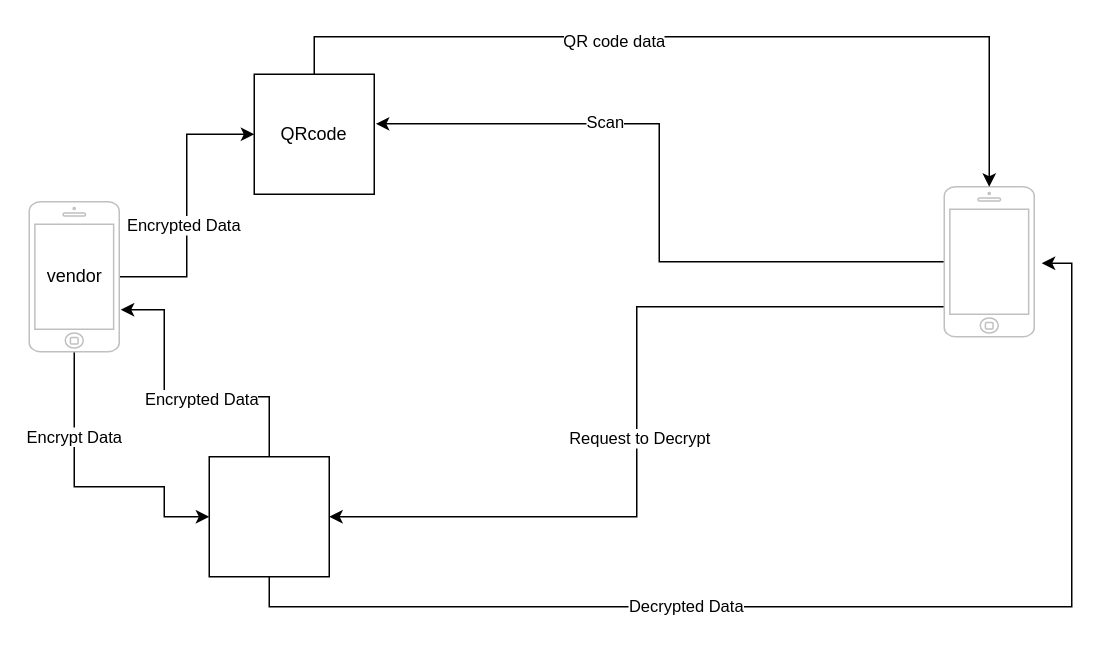
Some shapes in this 1110 by 645 pixel diagram are drawn without their labels. The centre of each missing label's shape, as x and y in pixels:
customer: pixel 988 261
QPey server: pixel 268 516
